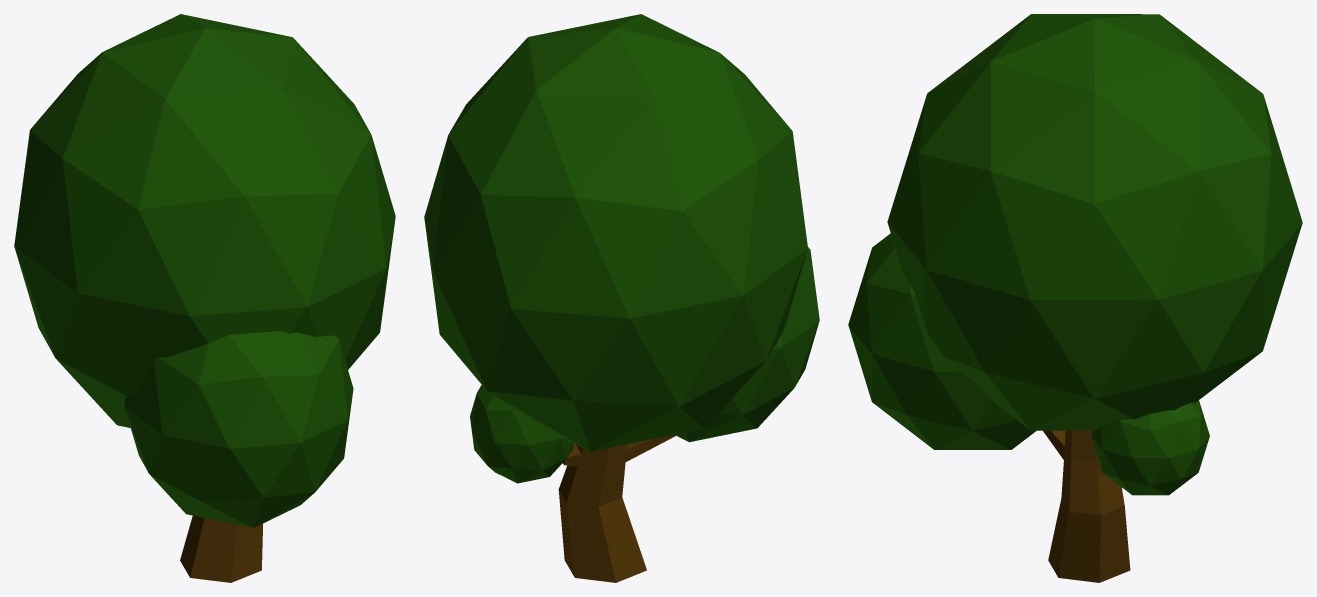
Rendered from pohon1.gltf.
3 views of the same model, side by side, from view 1: azimuth 30°, elevation 25°; view 2: azimuth 150°, elevation 25°; view 3: azimuth 270°, elevation 25° (orthographic).
Visible parts, largest first — view 1: Cylinder.008; view 2: Cylinder.008; view 3: Cylinder.008.
Part boxes in pixels (box(x1,y1,x2,y2)): Cylinder.008: box(14, 14, 395, 582); Cylinder.008: box(424, 14, 819, 582); Cylinder.008: box(848, 14, 1302, 582).
Bounding box in the file's own units: 1.2 × 1.94 × 1.48.
